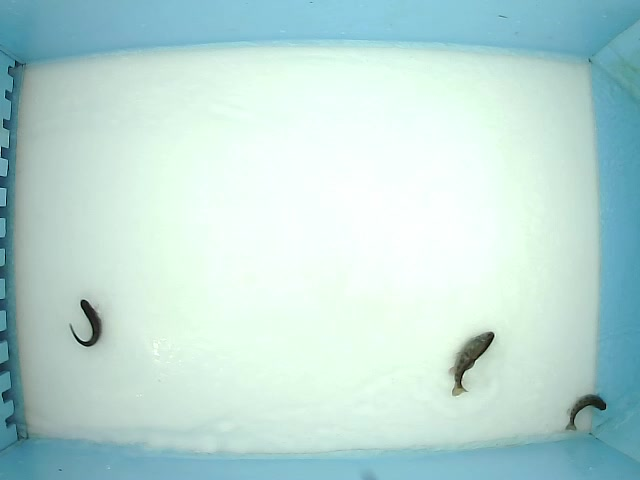fish: (447, 330, 496, 398), (68, 298, 104, 348), (564, 391, 607, 432)
